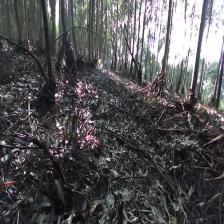trunk: (188, 4, 208, 100), (158, 4, 173, 83), (42, 3, 54, 83)
